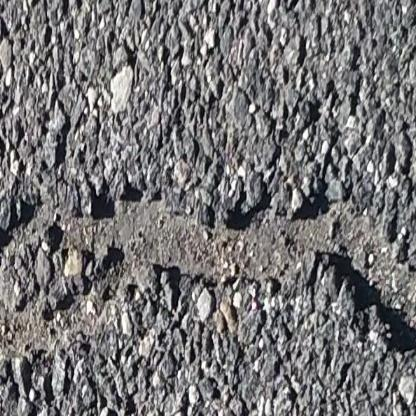Cracks: (0, 171, 416, 411)
